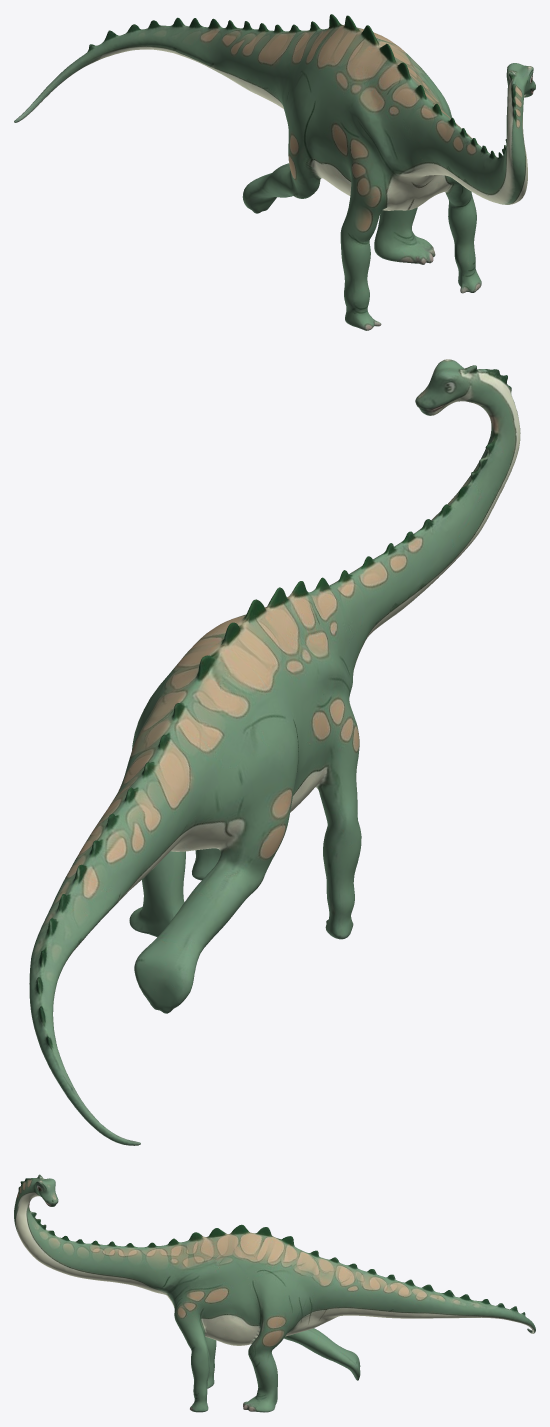
The model's file is D-dino.glb.
3 renders of one model, top to bottom at view 1: azimuth 30°, elevation 25°; view 2: azimuth 150°, elevation 25°; view 3: azimuth 270°, elevation 25°, orthographic. The views are drawn at different scales.
Bounding box in the file's own units: 0.5762 × 0.8858 × 1.9.
Materials: 1 (1 with a texture image).
